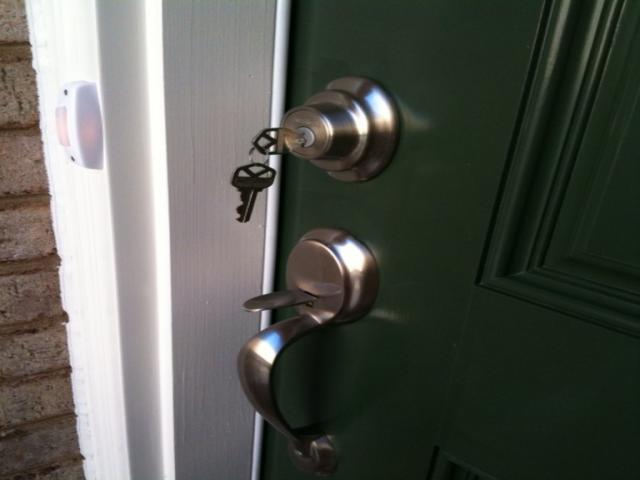Door-handle: (236, 227, 383, 479)
